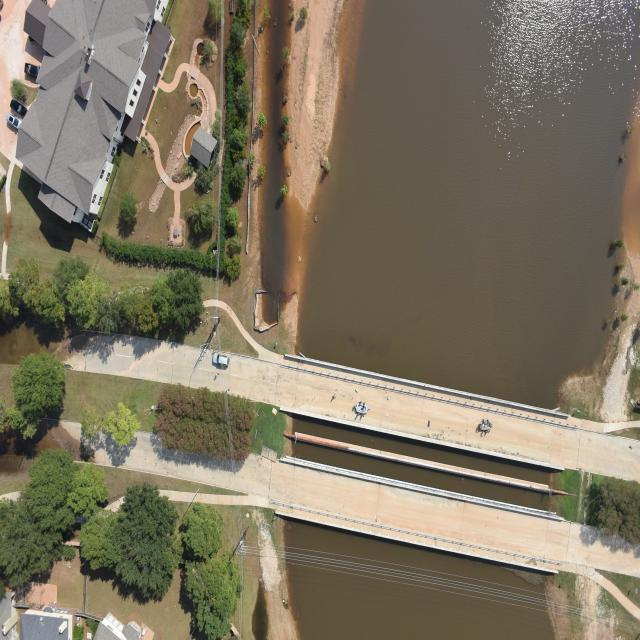fire: (299, 0, 640, 407), (284, 522, 555, 640), (293, 416, 572, 491), (291, 439, 552, 509), (255, 0, 305, 323)
